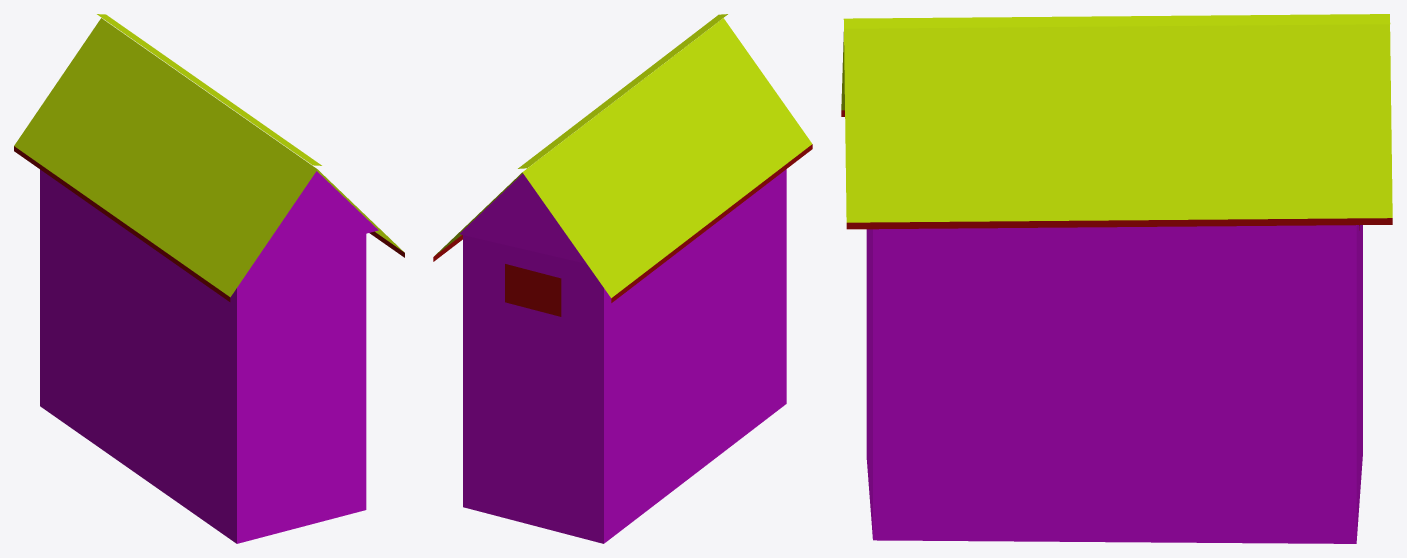
Rendered from rmc_185.glb.
The picture shows the model from 3 angles, left to right: view 1: azimuth 30°, elevation 25°; view 2: azimuth 150°, elevation 25°; view 3: azimuth 270°, elevation 25°; orthographic projection. The views are drawn at different scales.
Visible parts, largest first — view 1: rmc_185; view 2: rmc_185; view 3: rmc_185.
Part boxes in pixels (box(x1,y1,x2,y2)): rmc_185: box(14, 14, 404, 543); rmc_185: box(433, 14, 812, 543); rmc_185: box(841, 14, 1392, 543).
Size of the model in its own units: 4.47 by 8.56 by 8.9.
